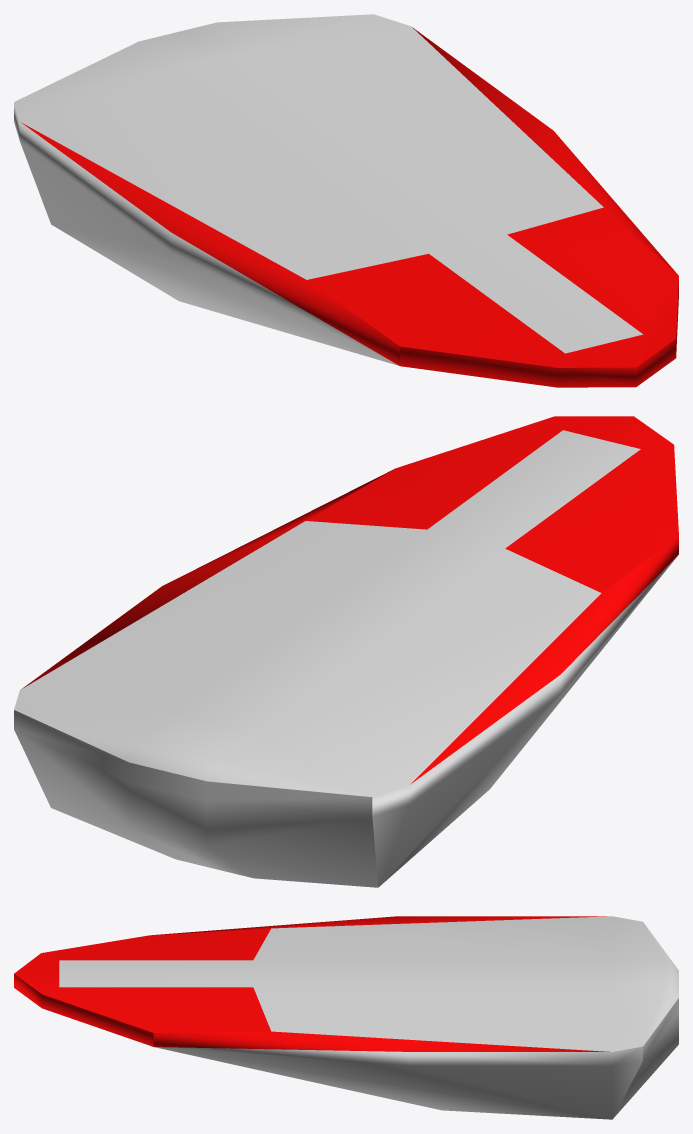
The model's file is boat.fbx.
3 renders of one model, top to bottom at view 1: azimuth 30°, elevation 25°; view 2: azimuth 150°, elevation 25°; view 3: azimuth 270°, elevation 25°, orthographic. The views are drawn at different scales.
Parts seen in each view (by area): view 1: pCube1; view 2: pCube1; view 3: pCube1.
Boxes of the visible parts, x1,y1,x2,y2 form: pCube1: (14,14,678,387); pCube1: (14,416,678,887); pCube1: (14,916,678,1119).
Size of the model in its own units: 0.014 by 0.005 by 0.029.
